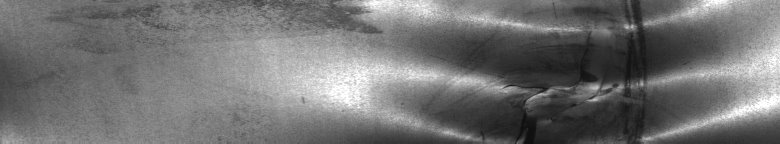ke: (444, 4, 739, 136)
